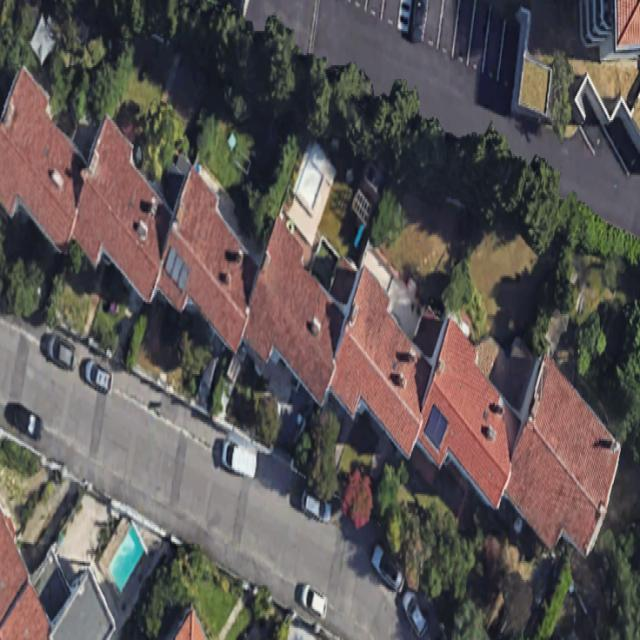maison: (496, 354, 632, 556), (406, 319, 535, 507), (233, 215, 359, 405), (321, 266, 445, 456), (147, 166, 274, 351), (63, 114, 182, 301), (0, 67, 84, 247)
